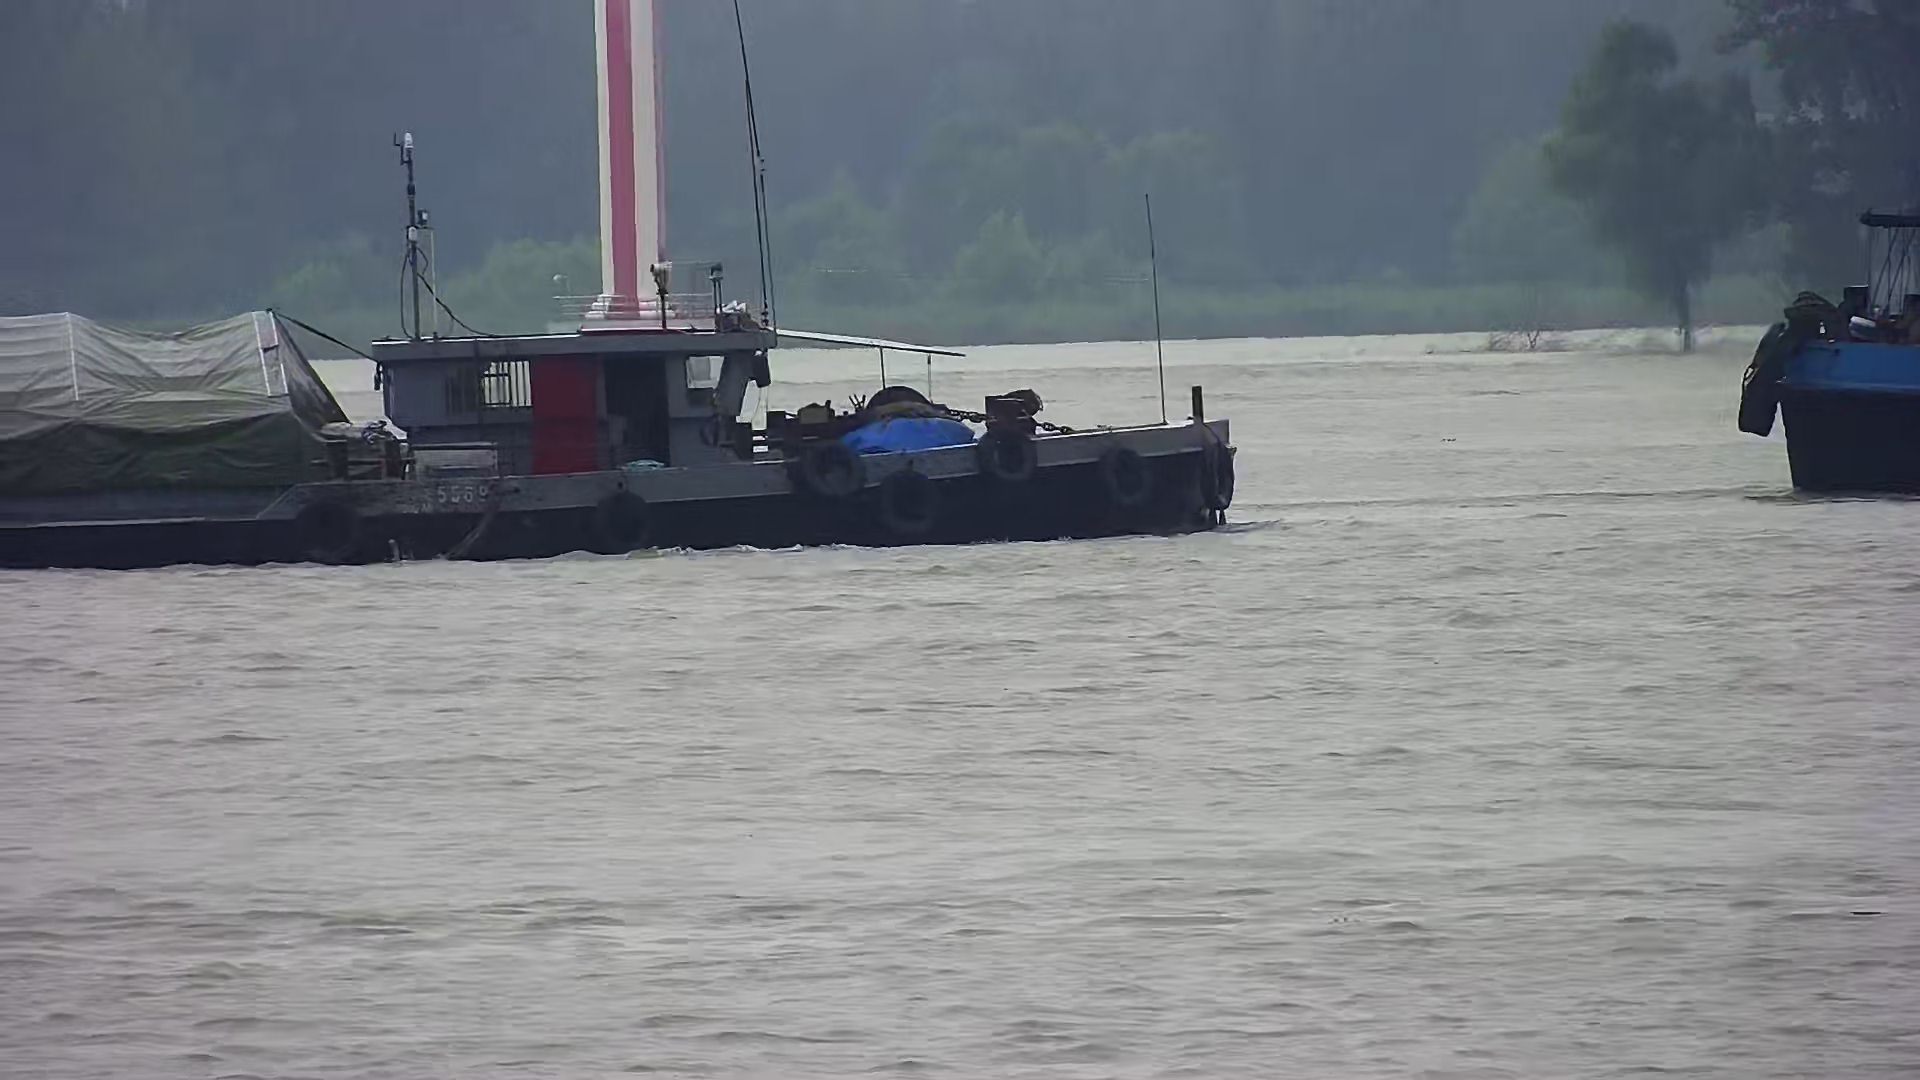platform: (545, 1, 724, 328)
ship: (1, 223, 1230, 572), (1738, 210, 1920, 497)
tree: (1542, 22, 1760, 353), (1730, 3, 1920, 282)
